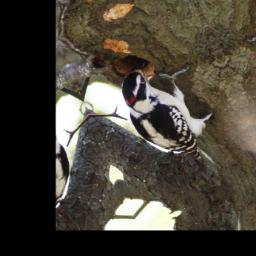Woodpecker: (112, 43, 230, 185)
